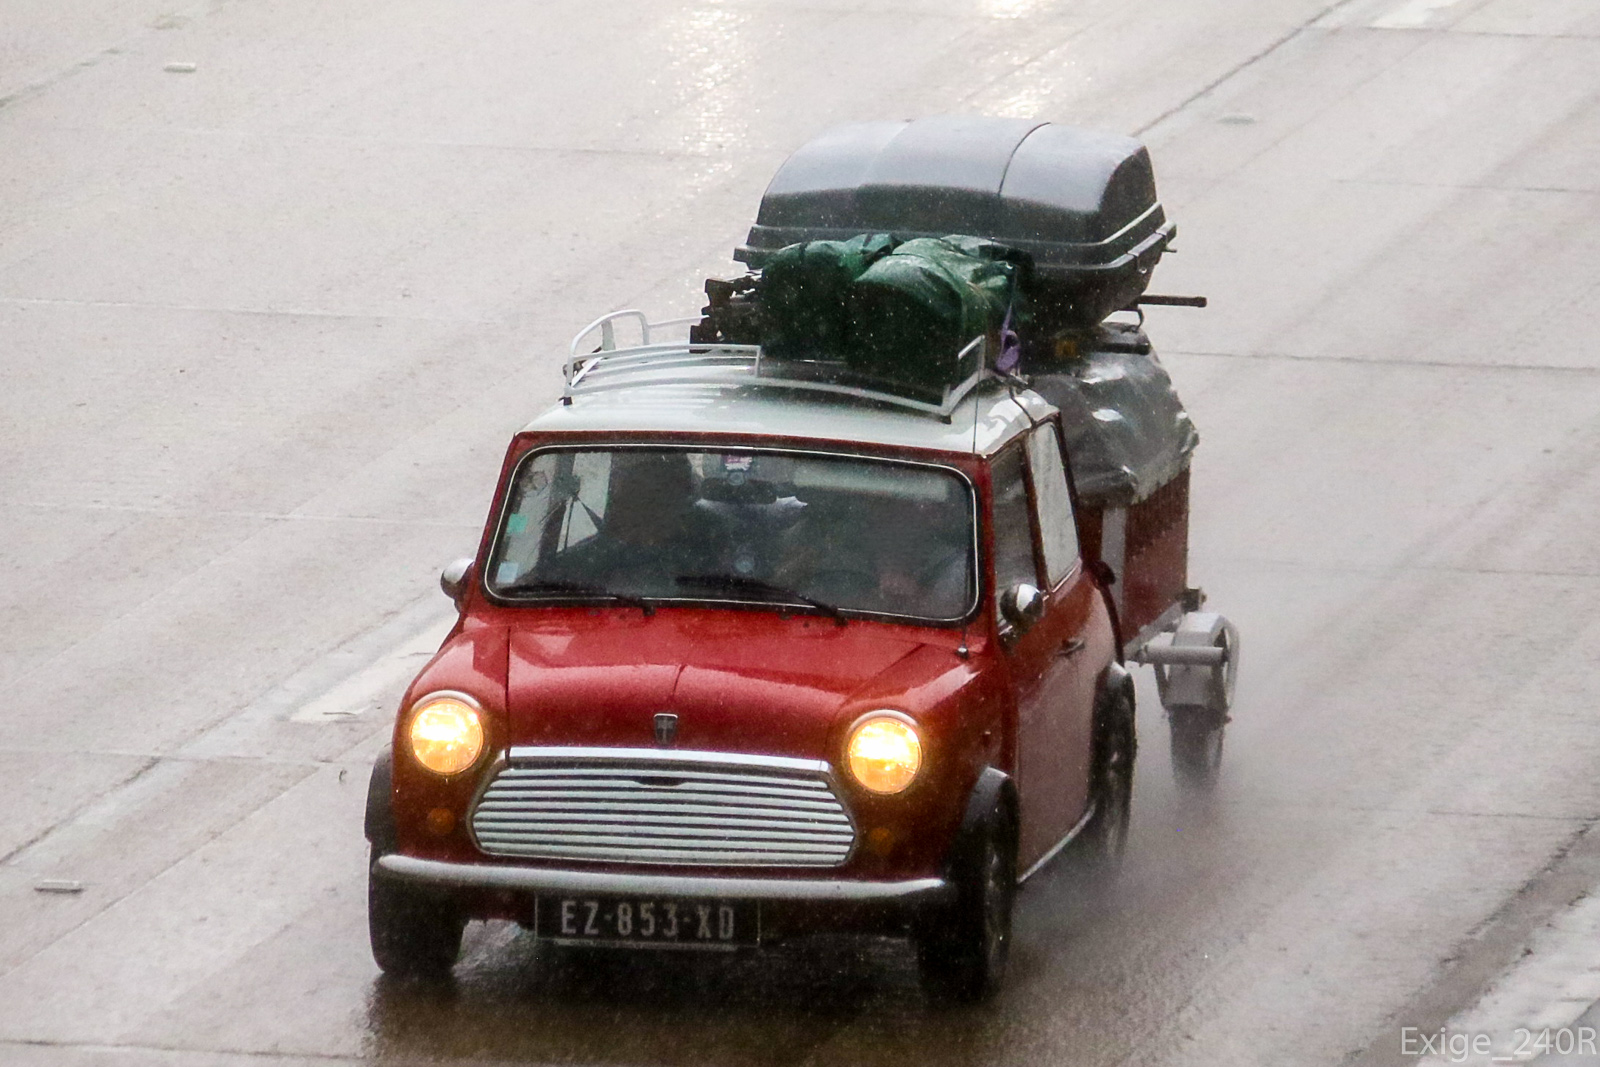licence plate: (530, 884, 767, 957)
